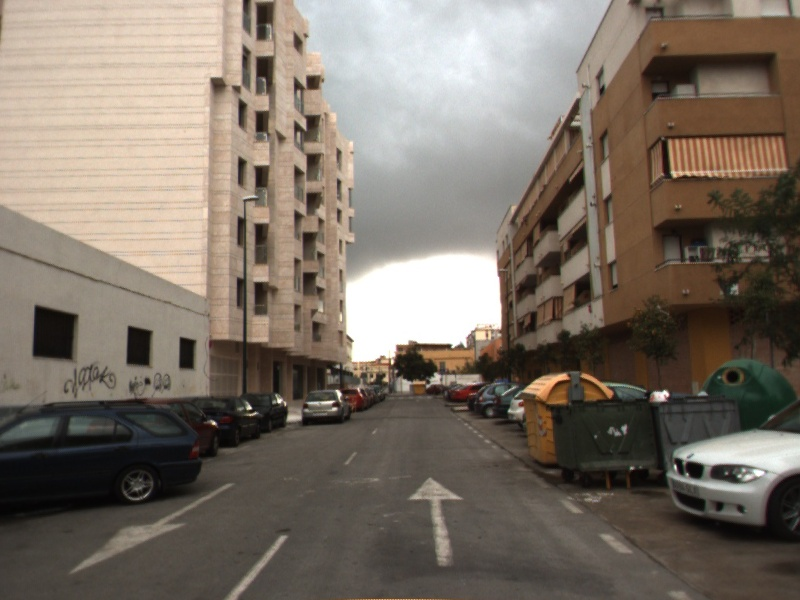STRAIGHT: (404, 473, 468, 569)
